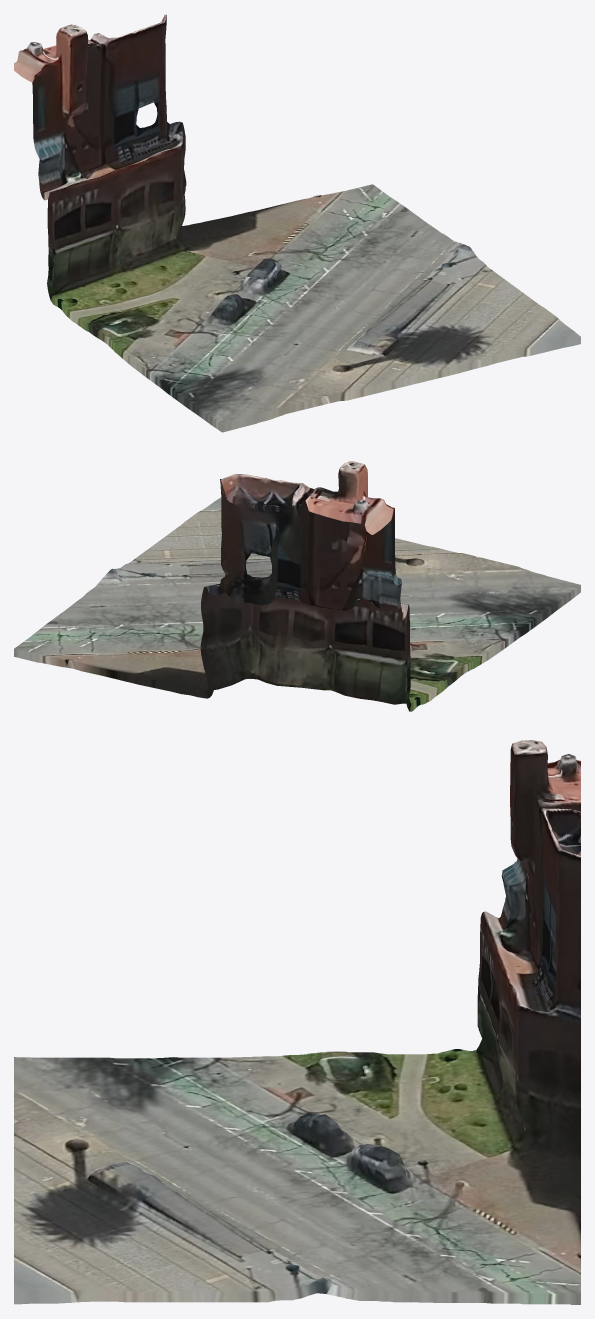
The model's file is z20-167779-405208-h0-yup-uvflip-v3-world.glb.
3 views of the same model, one above another, from view 1: azimuth 30°, elevation 25°; view 2: azimuth 150°, elevation 25°; view 3: azimuth 270°, elevation 25° (orthographic). The views are drawn at different scales.
Bounding box in the file's own units: 30.16 × 20.64 × 30.32.
1 material, 1 textured.
